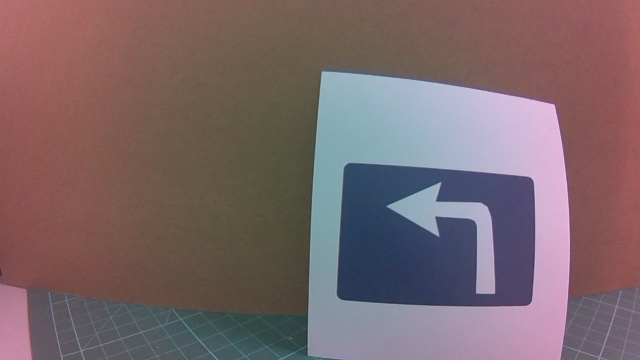left: (340, 152, 532, 323)
